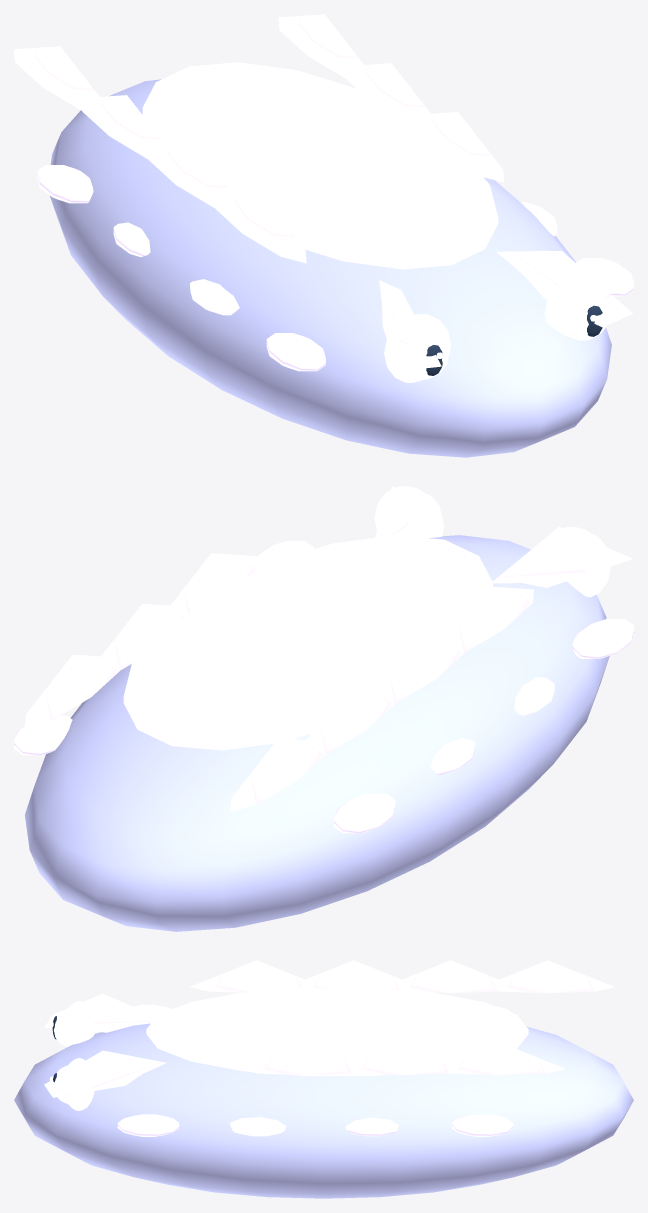
File: wisp-seahare.glb
3 views of the same model, one above another, from view 1: azimuth 30°, elevation 25°; view 2: azimuth 150°, elevation 25°; view 3: azimuth 270°, elevation 25° (orthographic). The views are drawn at different scales.
Parts seen in each view (by area): view 1: body, mantle-glow, cerata-0, swim-fin-1-blade, cerata-6, cerata-5, cerata-4, cerata-2, cerata-1, cerata-3, swim-fin--1-blade, scale--1-0 (+8 smaller); view 2: body, mantle-glow, swim-fin--1-blade, cerata-5, cerata-6, cerata-0, cerata-2, cerata-4, cerata-3, cerata-1, scale--1-3, scale--1-0 (+7 smaller); view 3: body, mantle-glow, cerata-5, swim-fin-1-blade, cerata-1, cerata-6, cerata-3, cerata-0, cerata-4, cerata-2, swim-fin--1-blade, scale-1-0 (+6 smaller).
Part boxes in pixels (x1,y1,x2,y2): body: (49, 79, 611, 457); mantle-glow: (142, 62, 498, 269); cerata-0: (215, 192, 306, 263); swim-fin-1-blade: (496, 251, 632, 327); cerata-6: (14, 46, 99, 110); cerata-5: (278, 14, 363, 78); cerata-4: (81, 95, 166, 159); cerata-2: (148, 144, 232, 207); cerata-1: (416, 112, 504, 182); cerata-3: (346, 63, 430, 123); swim-fin--1-blade: (379, 280, 441, 371); scale--1-0: (266, 333, 325, 371); body: (25, 535, 609, 931); mantle-glow: (123, 535, 492, 750); swim-fin--1-blade: (493, 527, 632, 587); cerata-5: (24, 654, 119, 727); cerata-6: (230, 738, 325, 811); cerata-0: (445, 586, 533, 652); cerata-2: (376, 637, 463, 703); cerata-4: (307, 687, 394, 754); cerata-3: (101, 604, 185, 670); cerata-1: (170, 553, 259, 615); scale--1-3: (334, 793, 395, 833); scale--1-0: (572, 619, 633, 658); body: (14, 1023, 633, 1198); mantle-glow: (146, 988, 528, 1075); cerata-5: (450, 1042, 566, 1075); swim-fin-1-blade: (44, 1050, 166, 1097); cerata-1: (238, 1042, 353, 1075); cerata-6: (499, 960, 614, 993); cerata-3: (353, 1042, 450, 1075); cerata-0: (189, 960, 304, 992); cerata-4: (402, 960, 499, 993); cerata-2: (305, 960, 402, 990); swim-fin--1-blade: (44, 993, 155, 1032); scale-1-0: (117, 1114, 179, 1136).
Bounding box in the file's own units: 1.16 × 0.705 × 2.3.
